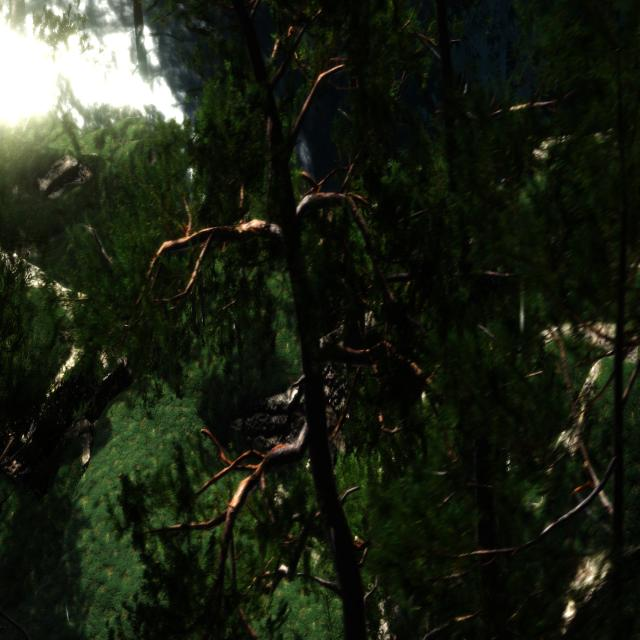Human: (226, 265, 247, 380)
